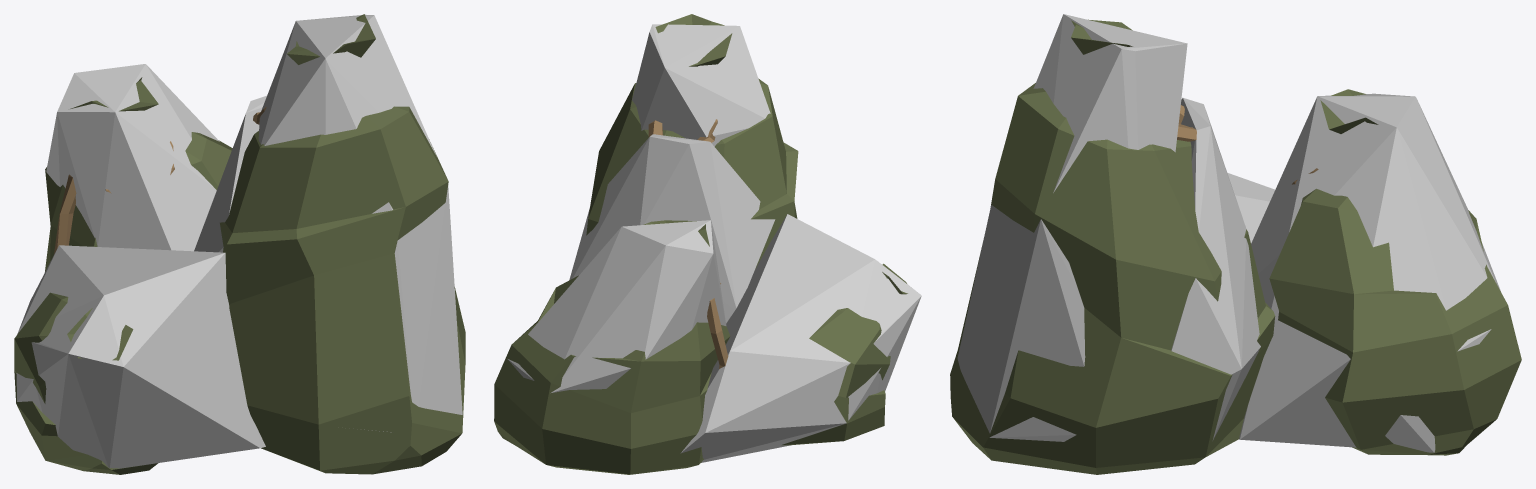
File: SM_Prop_Bundle_10.fbx
3 renders of one model, left to right at view 1: azimuth 30°, elevation 25°; view 2: azimuth 150°, elevation 25°; view 3: azimuth 270°, elevation 25°, orthographic. The views are drawn at different scales.
Parts seen in each view (by area): view 1: SM_Prop_Bundle_10_ConvexHulls, SM_Prop_Bundle_10; view 2: SM_Prop_Bundle_10_ConvexHulls, SM_Prop_Bundle_10; view 3: SM_Prop_Bundle_10, SM_Prop_Bundle_10_ConvexHulls.
Part boxes in pixels (x1=…): SM_Prop_Bundle_10_ConvexHulls: x1=16, y1=14, x2=462, y2=468; SM_Prop_Bundle_10: x1=14, y1=14, x2=465, y2=474; SM_Prop_Bundle_10_ConvexHulls: x1=507, y1=24, x2=921, y2=462; SM_Prop_Bundle_10: x1=494, y1=14, x2=907, y2=474; SM_Prop_Bundle_10: x1=950, y1=19, x2=1521, y2=474; SM_Prop_Bundle_10_ConvexHulls: x1=957, y1=14, x2=1500, y2=452.
Size of the model in its own units: 155 by 188 by 149.
2 materials, 1 textured.
